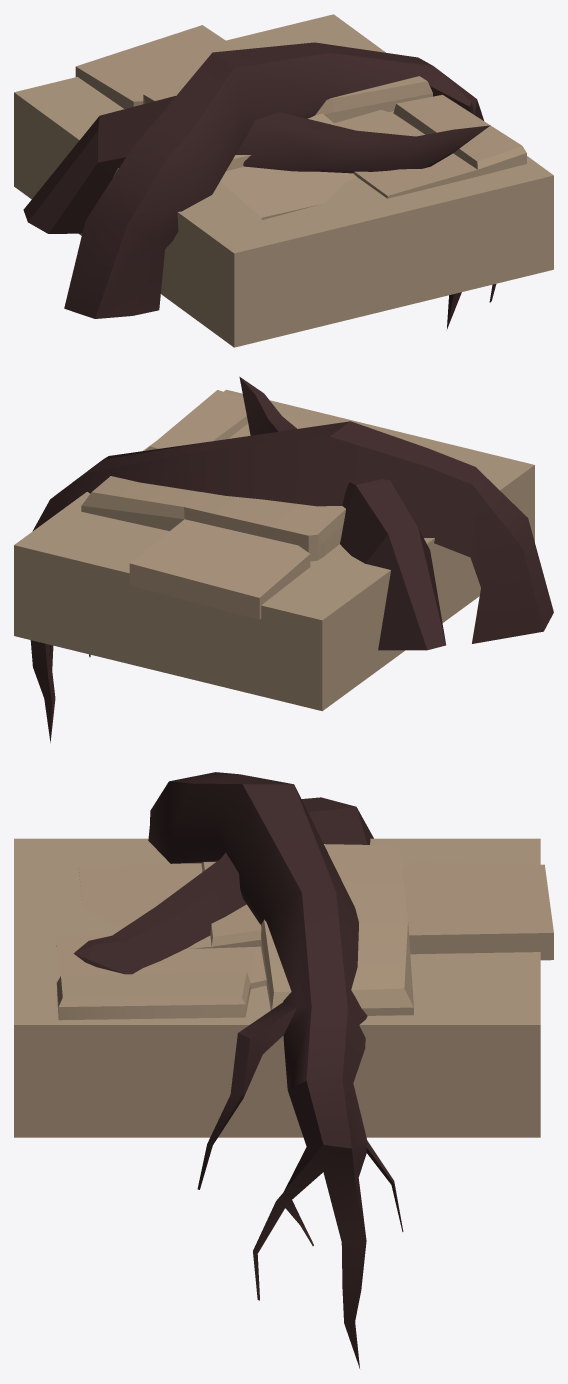
File: move floor.FBX
The picture shows the model from 3 angles, top to bottom: view 1: azimuth 30°, elevation 25°; view 2: azimuth 150°, elevation 25°; view 3: azimuth 270°, elevation 25°; orthographic projection. The views are drawn at different scales.
Visible parts, largest first — view 1: floor, wood (×2), ston271, ston270, ston272; view 2: floor, wood (×2), ston271, ston270; view 3: floor, wood (×2), ston271, ston270, ston272.
Boxes of the visible parts, x1,y1,x2,y2 form: floor: (14, 14, 553, 347); wood (×2): (23, 42, 496, 328); ston271: (75, 25, 432, 123); ston270: (334, 95, 526, 198); ston272: (220, 113, 357, 219); floor: (14, 389, 534, 711); wood (×2): (30, 376, 553, 742); ston271: (81, 476, 345, 619); ston270: (146, 390, 320, 450); floor: (14, 838, 540, 1137); wood (×2): (73, 772, 403, 1368); ston271: (261, 844, 553, 1015); ston270: (56, 934, 266, 1020); ston272: (78, 862, 261, 948).
Bounding box in the file's own units: 11.67 × 8.49 × 9.6.
